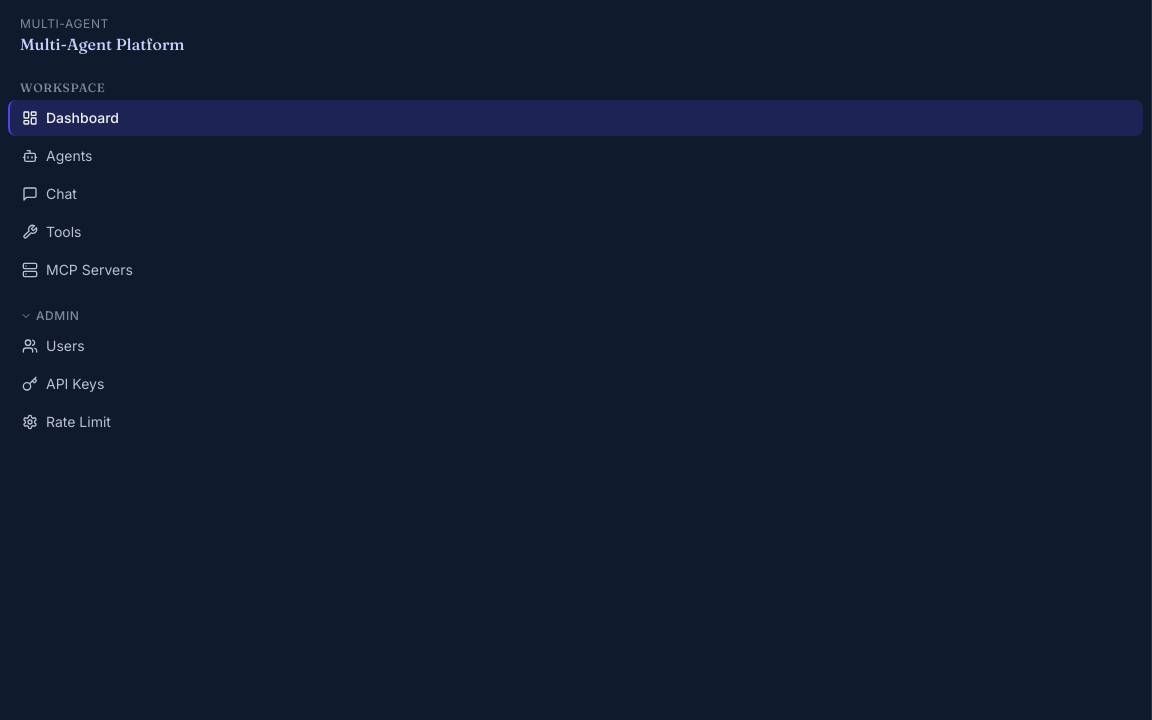
Test: Sidebar › Admin disclosure toggle persists to localStorage
Check: the link "API Keys" is shown, box [22, 375, 104, 392]
Click the button "Admin" at point(58, 316), box [8, 300, 1143, 324]
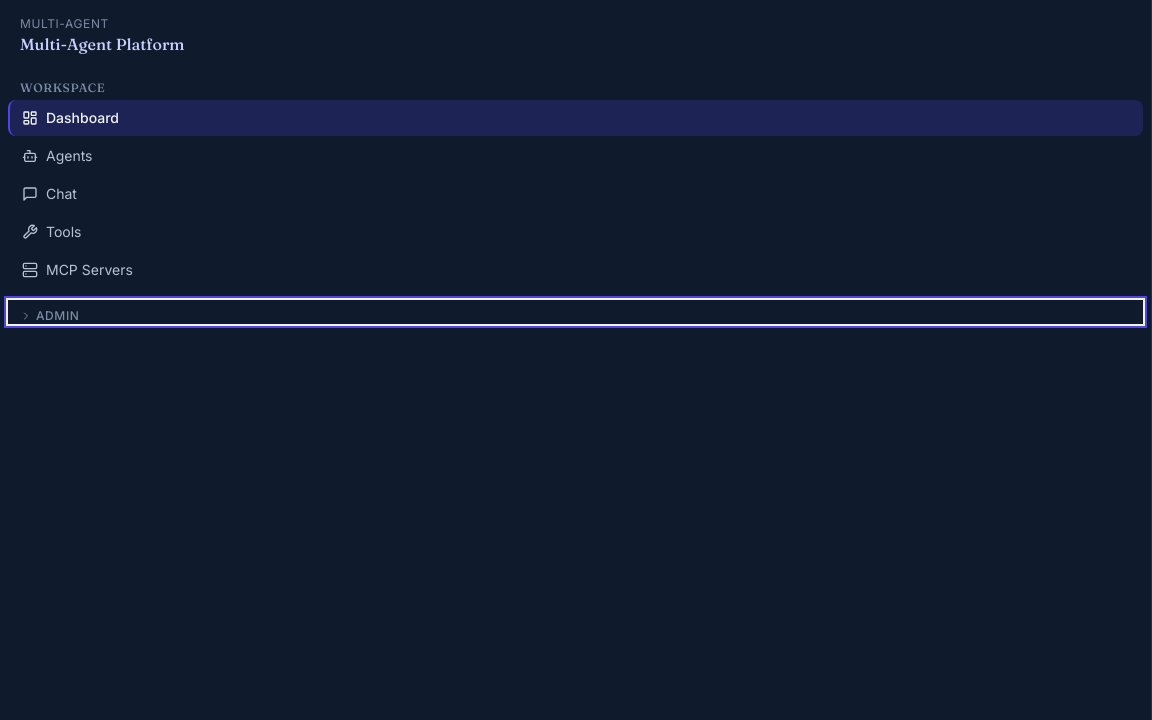
Check: the link "API Keys" is gone
